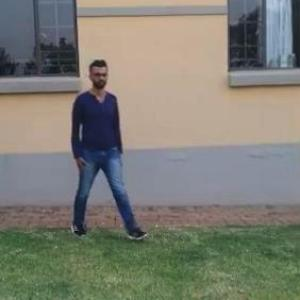follow: (70, 59, 122, 237)
